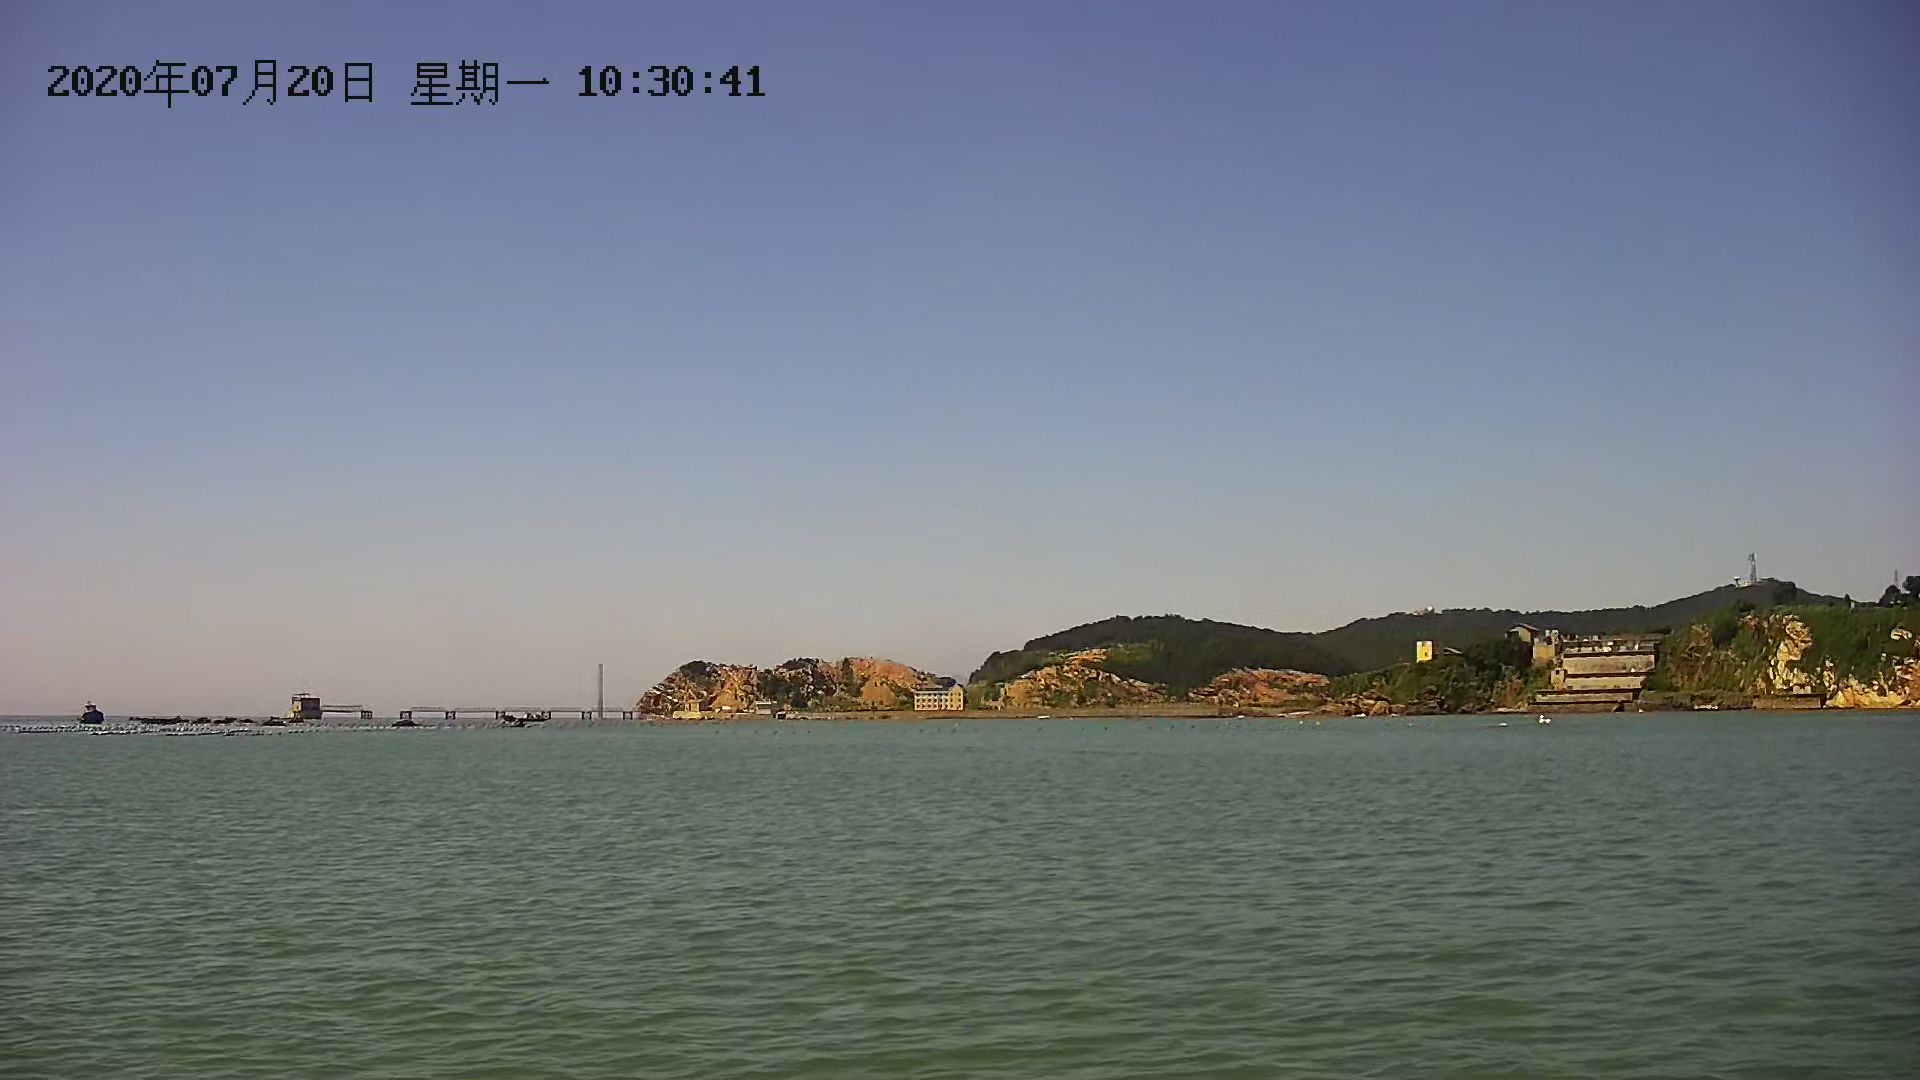harbor: (266, 688, 654, 727)
mast: (591, 659, 612, 716)
